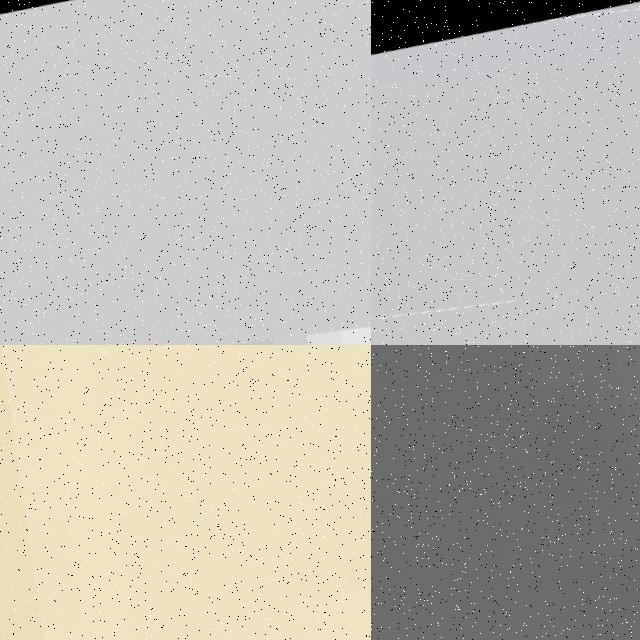0: (0, 0, 371, 345), (371, 0, 640, 345)
drone: (0, 345, 371, 640), (371, 345, 640, 640)
